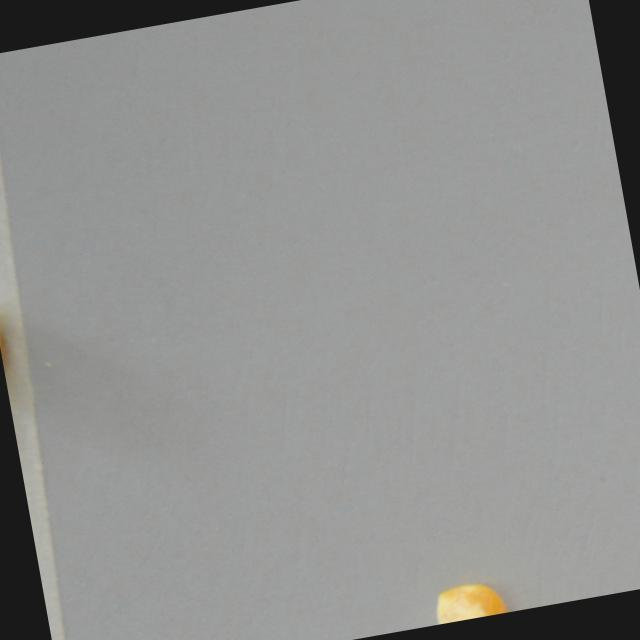punto_negro: (416, 573, 511, 627)
